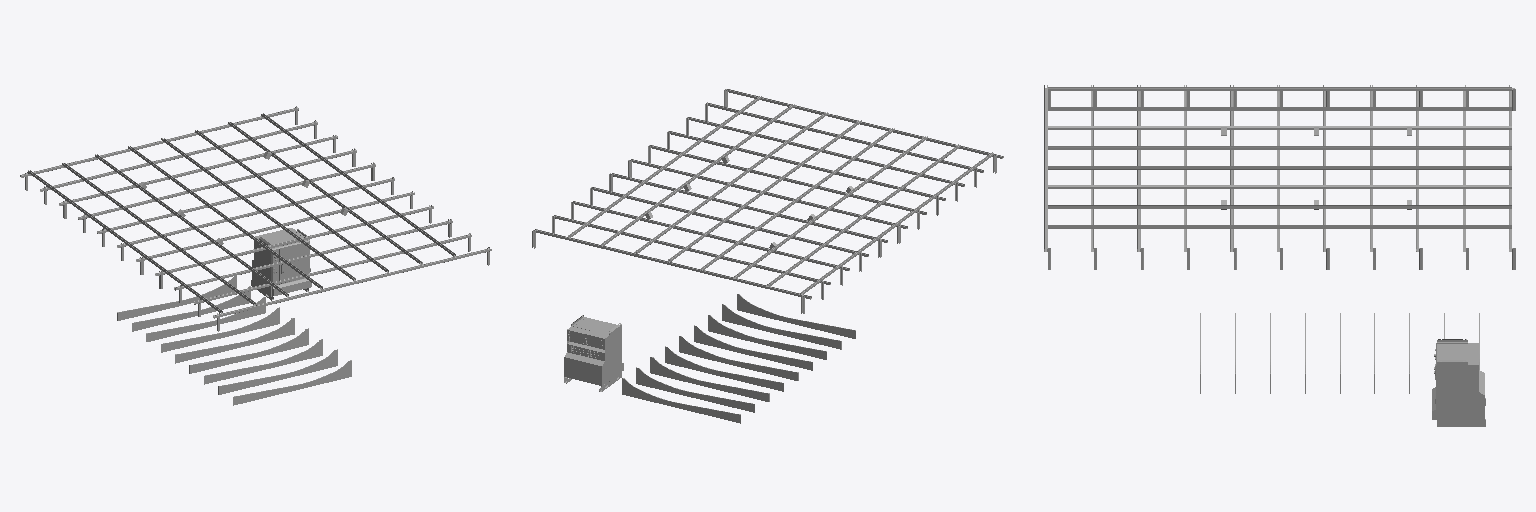
URDF robot description (wall):
<?xml version="1.0" ?>
<robot name="wall">
  <link name="world"/>
  <link name="Ceiling">
    <collision name="collision">
      <geometry>
        <mesh filename="package://abb_irb6640_support/meshes/Scene/TestBed_scene5.STL"/>
      </geometry>
    </collision>
    <visual name="visual">
      <geometry>
        <mesh filename="package://abb_irb6640_support/meshes/Scene/TestBed_scene5.STL"/>
      </geometry>
      <material name="DarkGrey">
        <color rgba="0.7 0.7 0.7 0.5"/>
      </material>
    </visual>
  </link>

  <joint name="Ceiling_joint" type="fixed">
    <parent link="world"/>
    <child link="Ceiling"/>
    <origin rpy="1.570796 0 3.1415926" xyz="-0.9 -4.377 0"/> 
  </joint>

  <gazebo>
    <static>true</static>
  </gazebo>
</robot>

--- What the picture shows (computed from the rendered views, not written in the file) ---
Views: 3 orthographic renders of the robot side by side, from view 1: azimuth 30°, elevation 25°; view 2: azimuth 150°, elevation 25°; view 3: azimuth 270°, elevation 25°.
Model wall with 2 links and 1 joints (1 fixed), rooted at world, posed every joint at zero.
Visible links, largest first — view 1: Ceiling; view 2: Ceiling; view 3: Ceiling.
Boxes of the visible links, x1,y1,x2,y2 form: Ceiling: (20, 106, 491, 405); Ceiling: (532, 89, 1003, 423); Ceiling: (1044, 85, 1515, 426).
Bounding box of the posed robot: 5.08 × 6.18 × 2.82 m (x, y, z).
1 mesh visuals loaded from 1 distinct referenced files (1 binary STL).